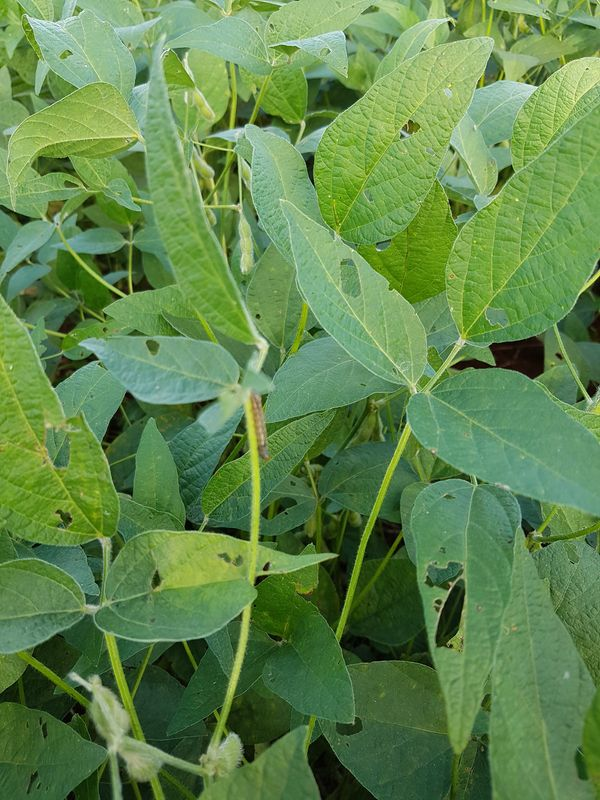Spodoptera_albula: (231, 381, 289, 466)
